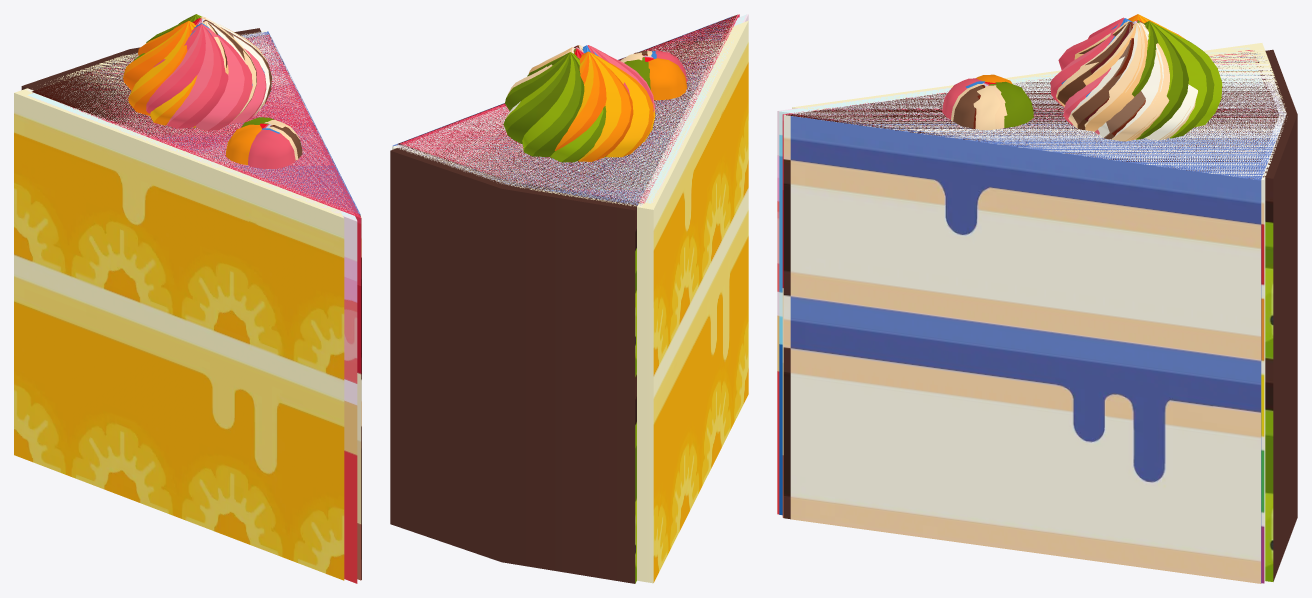
File: cake-168a4619.glb
3 views of the same model, side by side, from view 1: azimuth 30°, elevation 25°; view 2: azimuth 150°, elevation 25°; view 3: azimuth 270°, elevation 25° (orthographic). The views are drawn at different scales.
Visible parts, largest first — view 1: Slice_Fruit_Cake_0, Slice_Strawberry_Cream_0, Slice_Cheesecake_0, Slice_Qiiwi_cake_0, Slice_Blueberry_Cream_0, Slice_Chocolate_cake_0, Slice_Tea_Cake_0, Slice_Cookies_and_cream_0, Slice_Oceon_Blue_Cream_0; view 2: Slice_Qiiwi_cake_0, Slice_Fruit_Cake_0, Slice_Cheesecake_0, Slice_Oceon_Blue_Cream_0, Slice_Blueberry_Cream_0, Slice_Chocolate_cake_0, Slice_Red_Velvet_0, Slice_Cookies_and_cream_0, Slice_Strawberry_Cream_0, Slice_Rainbow_Cake_0; view 3: Slice_Blueberry_Cream_0, Slice_Qiiwi_cake_0, Slice_Tea_Cake_0, Slice_Cookies_and_cream_0, Slice_Chocolate_cake_0, Slice_Oceon_Blue_Cream_0, Slice_Rainbow_Cake_0, Slice_Strawberry_Cream_0, Slice_Cheesecake_0, Slice_Fruit_Cake_0, Slice_Purple_Cake_0, Slice_Red_Velvet_0.
Part boxes in pixels (x1=…): Slice_Fruit_Cake_0: x1=14, y1=21, x2=344, y2=580; Slice_Strawberry_Cream_0: x1=29, y1=24, x2=357, y2=583; Slice_Cheesecake_0: x1=68, y1=21, x2=361, y2=580; Slice_Qiiwi_cake_0: x1=21, y1=14, x2=346, y2=208; Slice_Blueberry_Cream_0: x1=89, y1=17, x2=360, y2=214; Slice_Chocolate_cake_0: x1=32, y1=20, x2=360, y2=216; Slice_Tea_Cake_0: x1=27, y1=18, x2=354, y2=214; Slice_Cookies_and_cream_0: x1=32, y1=20, x2=361, y2=579; Slice_Oceon_Blue_Cream_0: x1=27, y1=23, x2=357, y2=220; Slice_Qiiwi_cake_0: x1=390, y1=27, x2=724, y2=583; Slice_Fruit_Cake_0: x1=413, y1=20, x2=748, y2=583; Slice_Cheesecake_0: x1=400, y1=14, x2=739, y2=203; Slice_Oceon_Blue_Cream_0: x1=409, y1=14, x2=746, y2=203; Slice_Blueberry_Cream_0: x1=392, y1=16, x2=732, y2=205; Slice_Chocolate_cake_0: x1=397, y1=14, x2=737, y2=203; Slice_Red_Velvet_0: x1=397, y1=21, x2=734, y2=206; Slice_Cookies_and_cream_0: x1=576, y1=14, x2=737, y2=203; Slice_Strawberry_Cream_0: x1=526, y1=14, x2=748, y2=202; Slice_Rainbow_Cake_0: x1=392, y1=23, x2=725, y2=192; Slice_Blueberry_Cream_0: x1=790, y1=23, x2=1283, y2=583; Slice_Qiiwi_cake_0: x1=804, y1=21, x2=1297, y2=581; Slice_Tea_Cake_0: x1=794, y1=20, x2=1286, y2=178; Slice_Cookies_and_cream_0: x1=783, y1=21, x2=1276, y2=519; Slice_Chocolate_cake_0: x1=786, y1=22, x2=1278, y2=178; Slice_Oceon_Blue_Cream_0: x1=779, y1=18, x2=1272, y2=515; Slice_Rainbow_Cake_0: x1=925, y1=22, x2=1287, y2=583; Slice_Strawberry_Cream_0: x1=777, y1=17, x2=1255, y2=514; Slice_Cheesecake_0: x1=782, y1=21, x2=1275, y2=517; Slice_Fruit_Cake_0: x1=792, y1=14, x2=1285, y2=144; Slice_Purple_Cake_0: x1=790, y1=21, x2=1282, y2=135; Slice_Red_Velvet_0: x1=793, y1=20, x2=1285, y2=119.
Bounding box in the file's own units: 0.1319 × 0.2217 × 0.2104.
13 materials, 13 textured.
